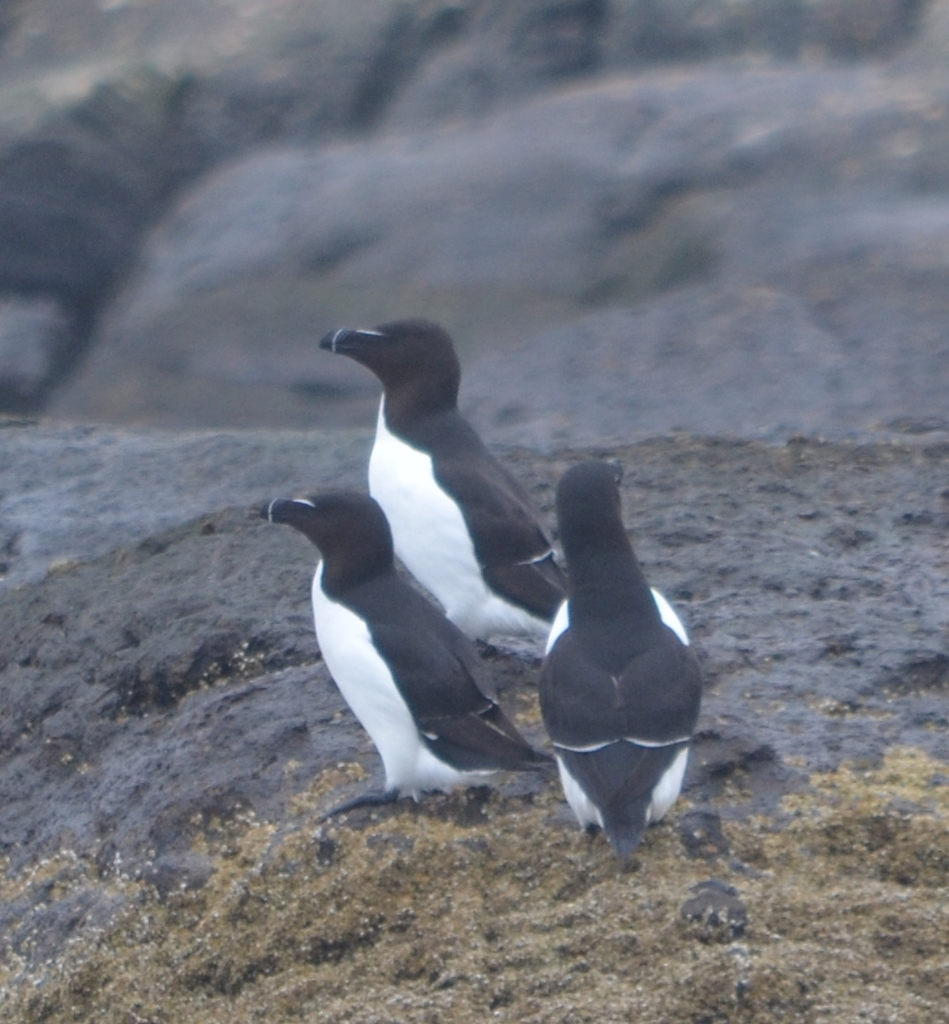Bird: (258, 488, 561, 825), (326, 319, 573, 654), (538, 454, 705, 866)
